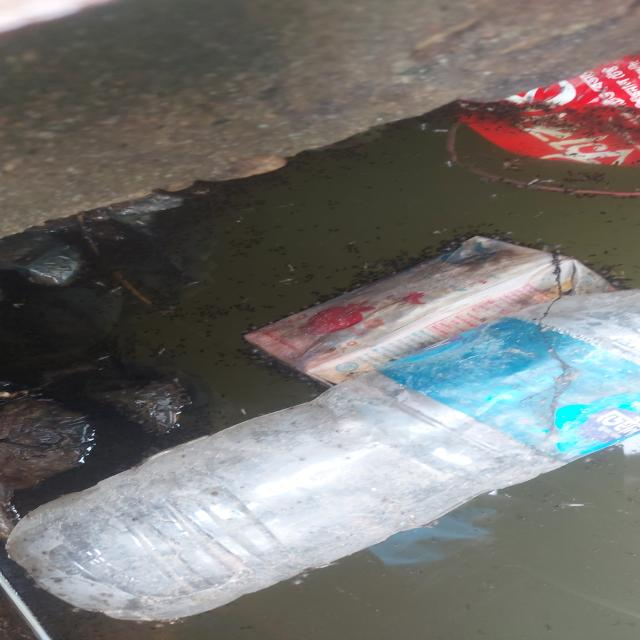Breeding Place: (9, 108, 639, 525), (190, 450, 620, 634)
